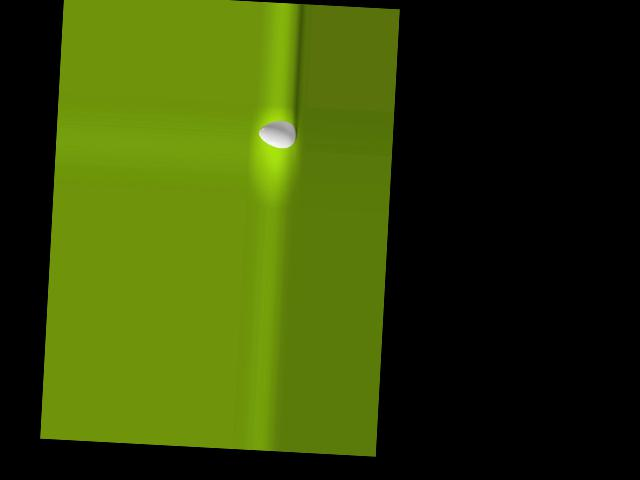egg: (257, 119, 296, 148)
